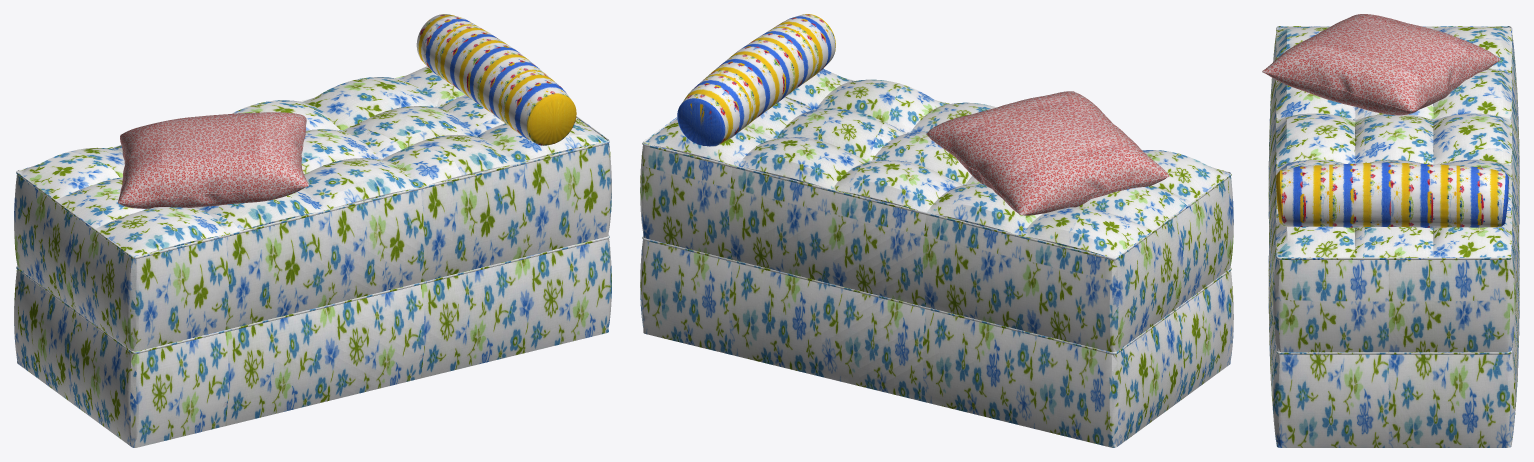
The model's file is sofafbx.fbx.
The picture shows the model from 3 angles, left to right: view 1: azimuth 30°, elevation 25°; view 2: azimuth 150°, elevation 25°; view 3: azimuth 270°, elevation 25°; orthographic projection.
Parts seen in each view (by area): view 1: Group_001, Pillow05, Group#26_001; view 2: Group_001, Pillow05, Group#26_001; view 3: Group_001, Pillow05, Group#26_001.
Boxes of the visible parts, left/top/right/bottom form: Group_001: left=14, top=66, right=611, bottom=447; Pillow05: left=118, top=112, right=308, bottom=208; Group#26_001: left=416, top=14, right=576, bottom=145; Group_001: left=640, top=68, right=1233, bottom=447; Pillow05: left=926, top=91, right=1169, bottom=215; Group#26_001: left=677, top=14, right=835, bottom=146; Group_001: left=1268, top=26, right=1519, bottom=447; Pillow05: left=1262, top=14, right=1500, bottom=115; Group#26_001: left=1276, top=162, right=1508, bottom=228.
Bounding box in the file's own units: 144 × 72.02 × 65.82.
Materials: 4 (3 with a texture image).
